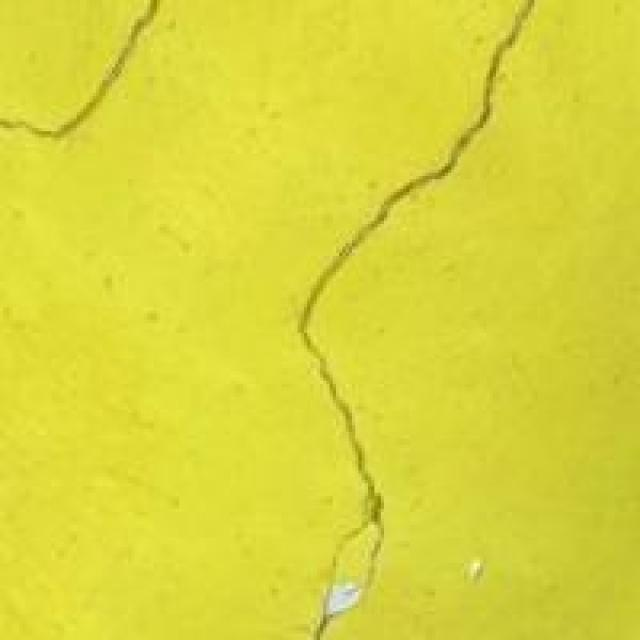Crack: (3, 0, 525, 627)
